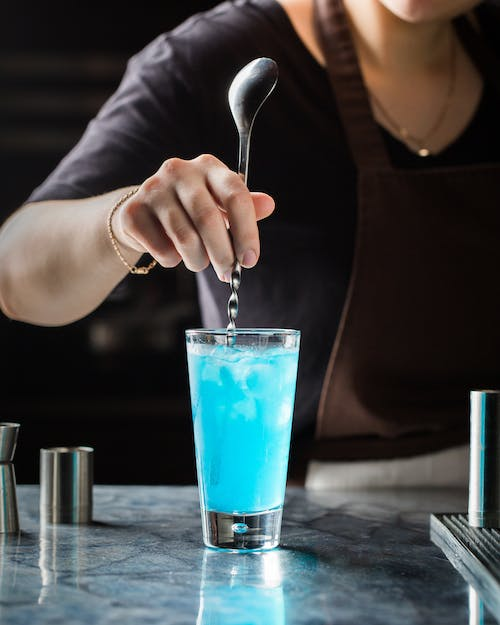alcohol: (182, 325, 304, 555)
